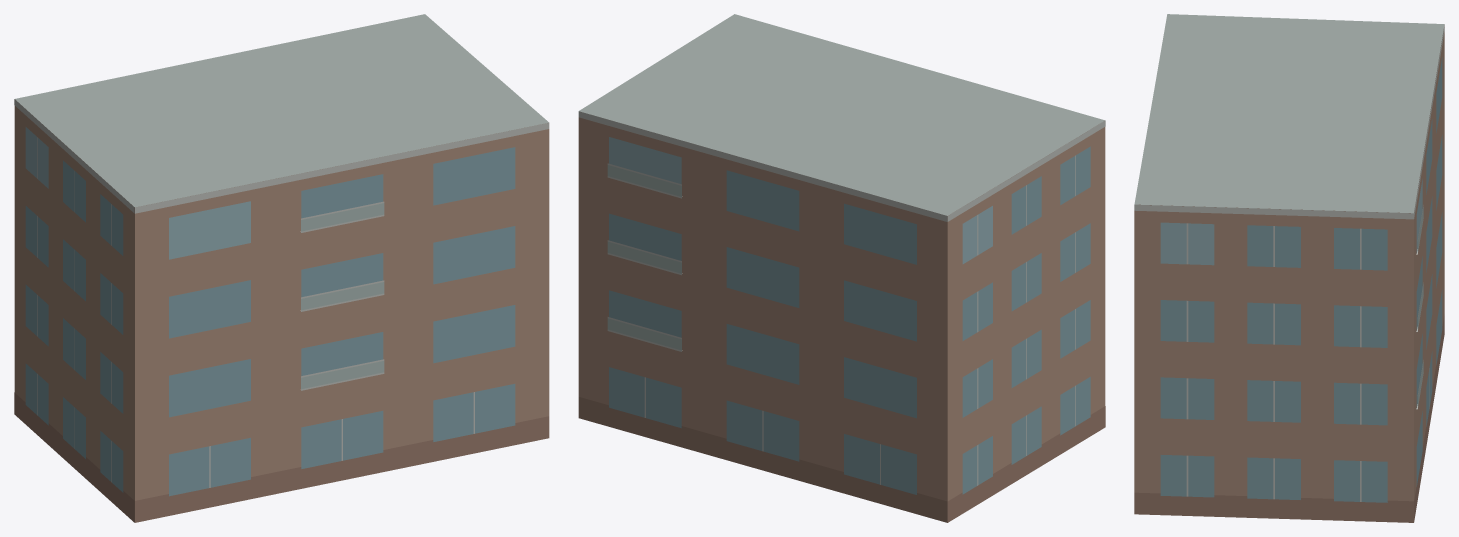
The model's file is survey-upis-32940553.glb.
3 renders of one model, left to right at view 1: azimuth 30°, elevation 25°; view 2: azimuth 150°, elevation 25°; view 3: azimuth 270°, elevation 25°, orthographic. The views are drawn at different scales.
Parts seen in each view (by area): view 1: survey-upis-32940553.tmp; view 2: survey-upis-32940553.tmp; view 3: survey-upis-32940553.tmp.
Boxes of the visible parts, <box> form: survey-upis-32940553.tmp: <box>14,14,549,522</box>; survey-upis-32940553.tmp: <box>578,14,1105,522</box>; survey-upis-32940553.tmp: <box>1134,14,1444,522</box>.
Bounding box in the file's own units: 16.84 × 12.2 × 11.09.
